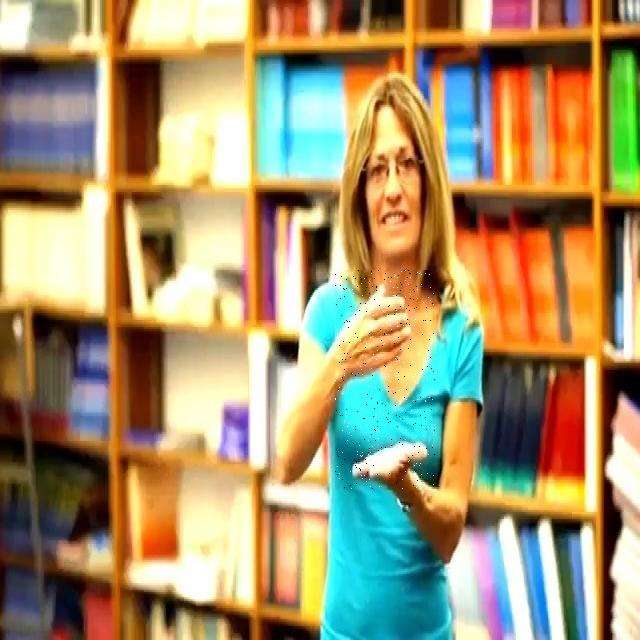cup: (336, 270, 436, 490)
